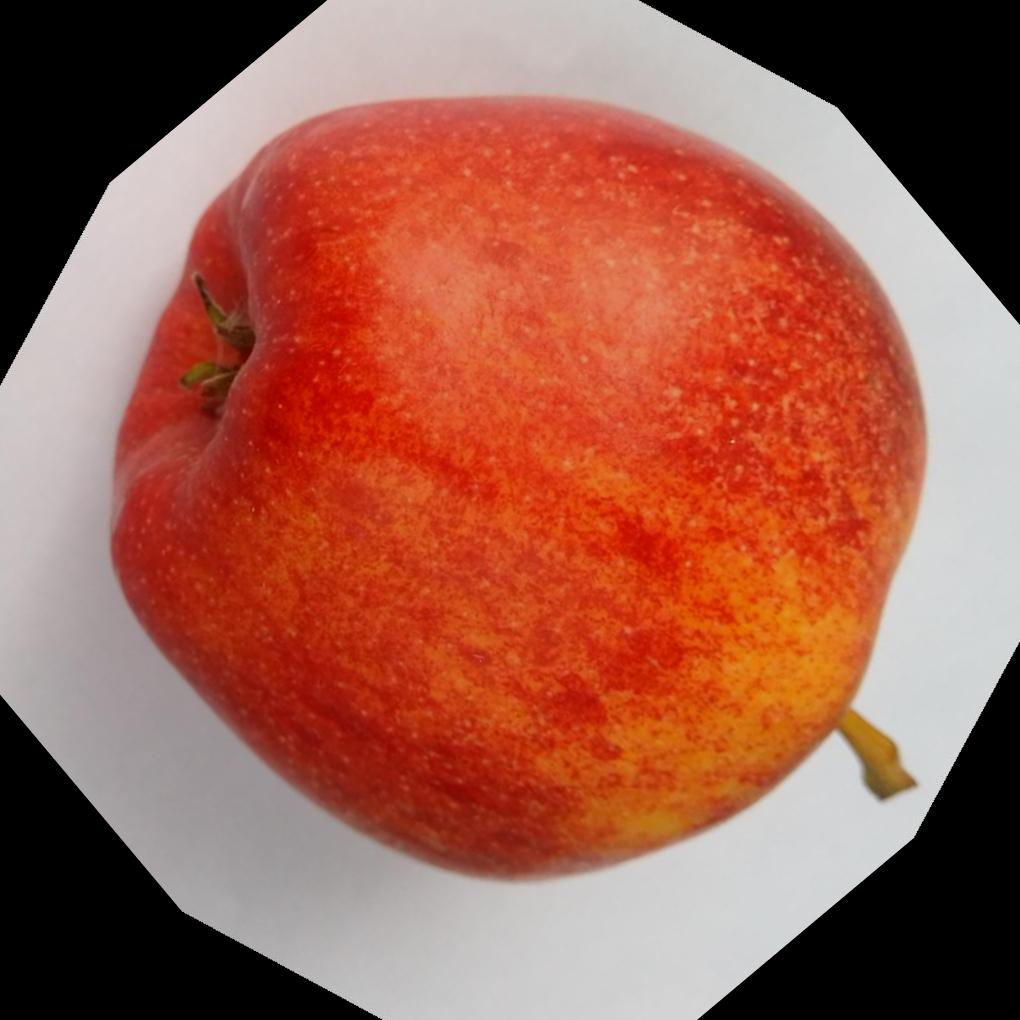FreshGuava: (103, 87, 929, 880)
